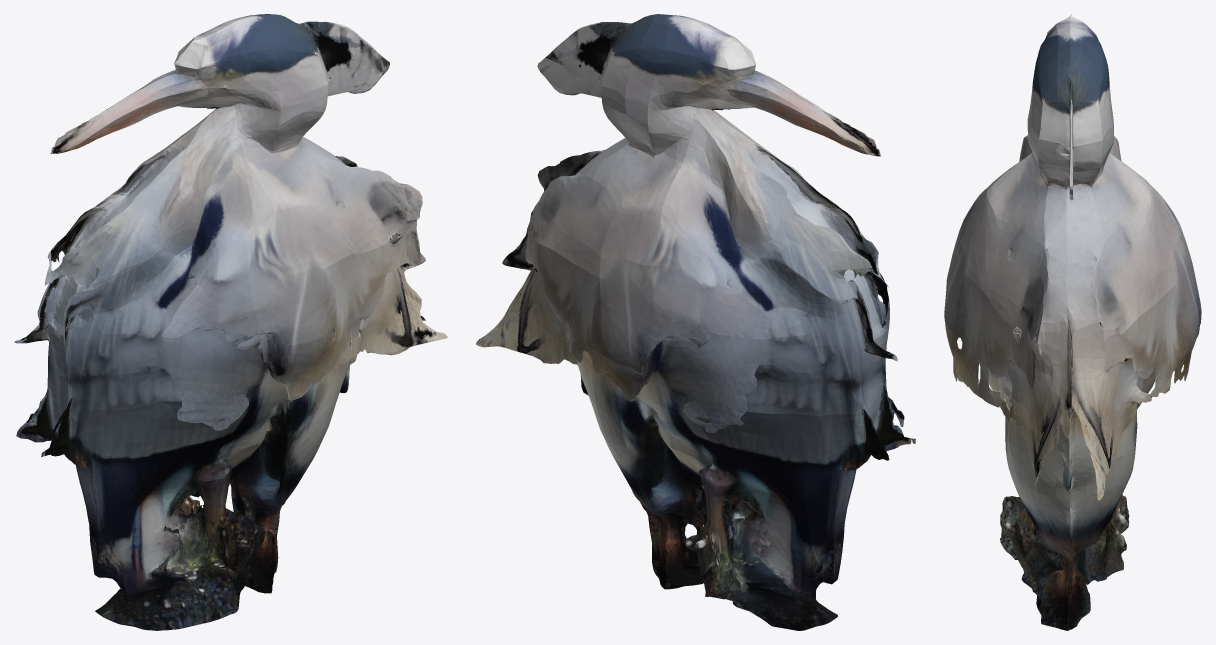
The model's file is heron.glb.
3 renders of one model, left to right at view 1: azimuth 30°, elevation 25°; view 2: azimuth 150°, elevation 25°; view 3: azimuth 270°, elevation 25°, orthographic. The views are drawn at different scales.
Parts seen in each view (by area): view 1: world; view 2: world; view 3: world.
Boxes of the visible parts, bbox=[...] form: world: bbox=[14, 14, 447, 630]; world: bbox=[476, 14, 915, 630]; world: bbox=[944, 14, 1201, 630].
Bounding box in the file's own units: 0.7477 × 0.999 × 0.3891.
1 material, 1 textured.
